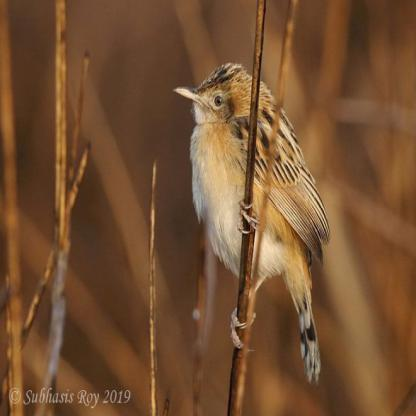Burung: (172, 63, 330, 385)
